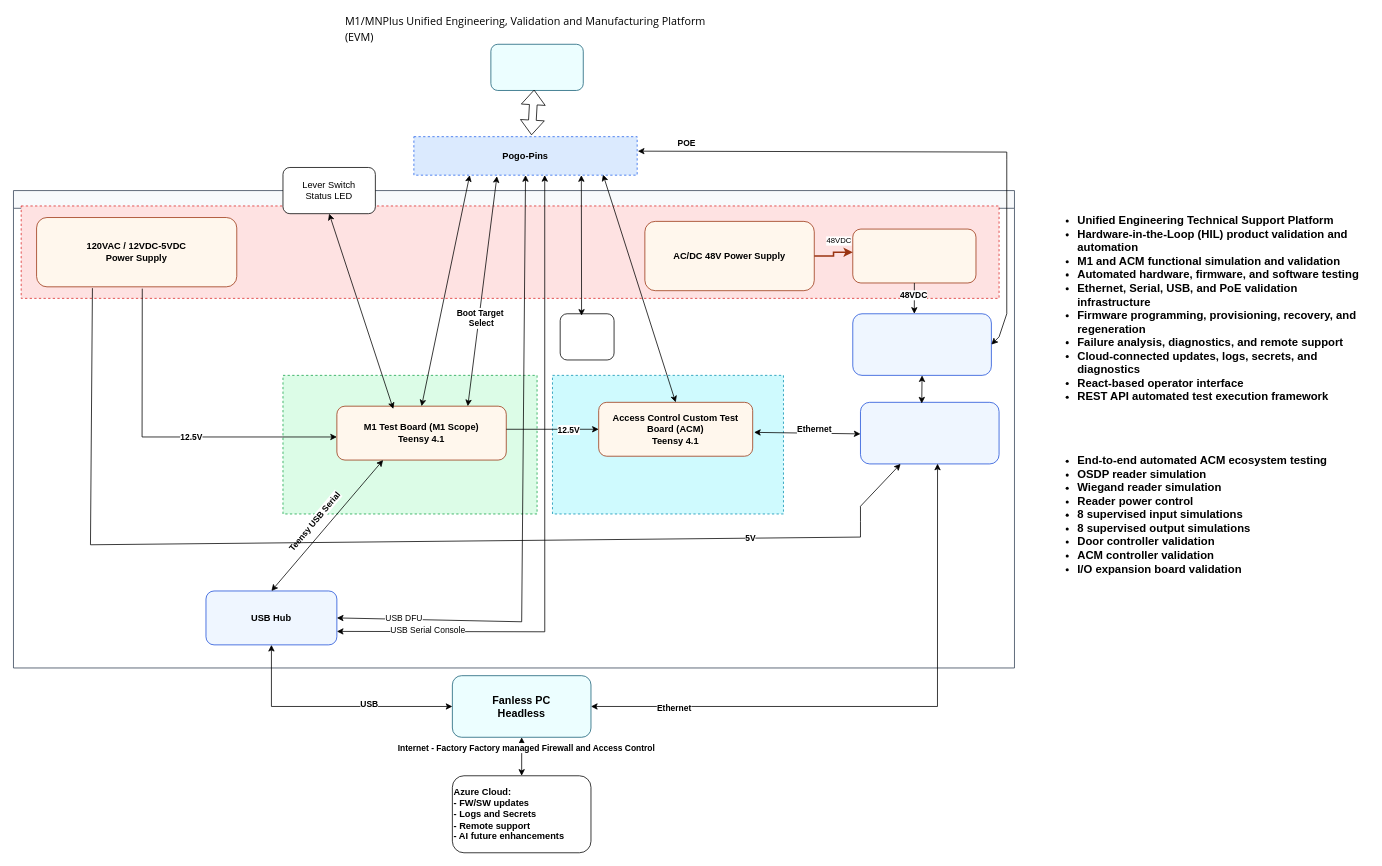
Some shapes in this 1382 by 866 pixel diagram are drawn without their labels. The shapes that lost their labels are listed below. From the top down, each one's centre as x and y in pixels, then its label:
At point 536,67: "UUT".
At point 914,255: "Custom DC/DC SSR".
At point 586,336: "USB Flash Drive".
At point 921,344: "PoE Power Injector".
At point 929,433: "SAM-E Board Ethernet Switch".
